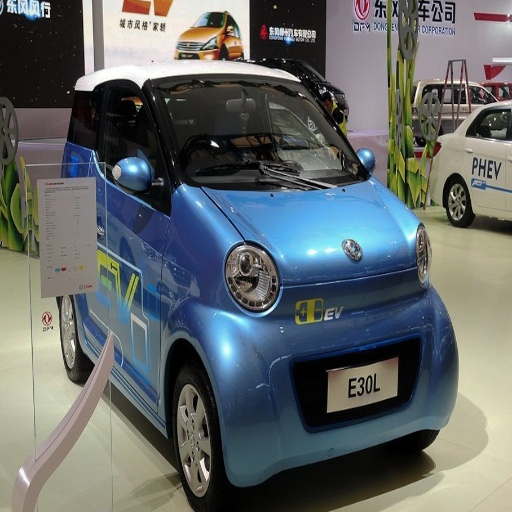front_bumper: (211, 264, 456, 475)
front_right_door: (94, 87, 170, 398)
front_right_light: (226, 248, 277, 311)
hood: (203, 168, 415, 272)
trunk: (271, 240, 351, 325)
